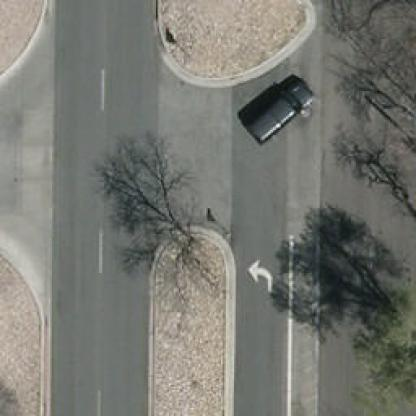car: (240, 80, 315, 144)
